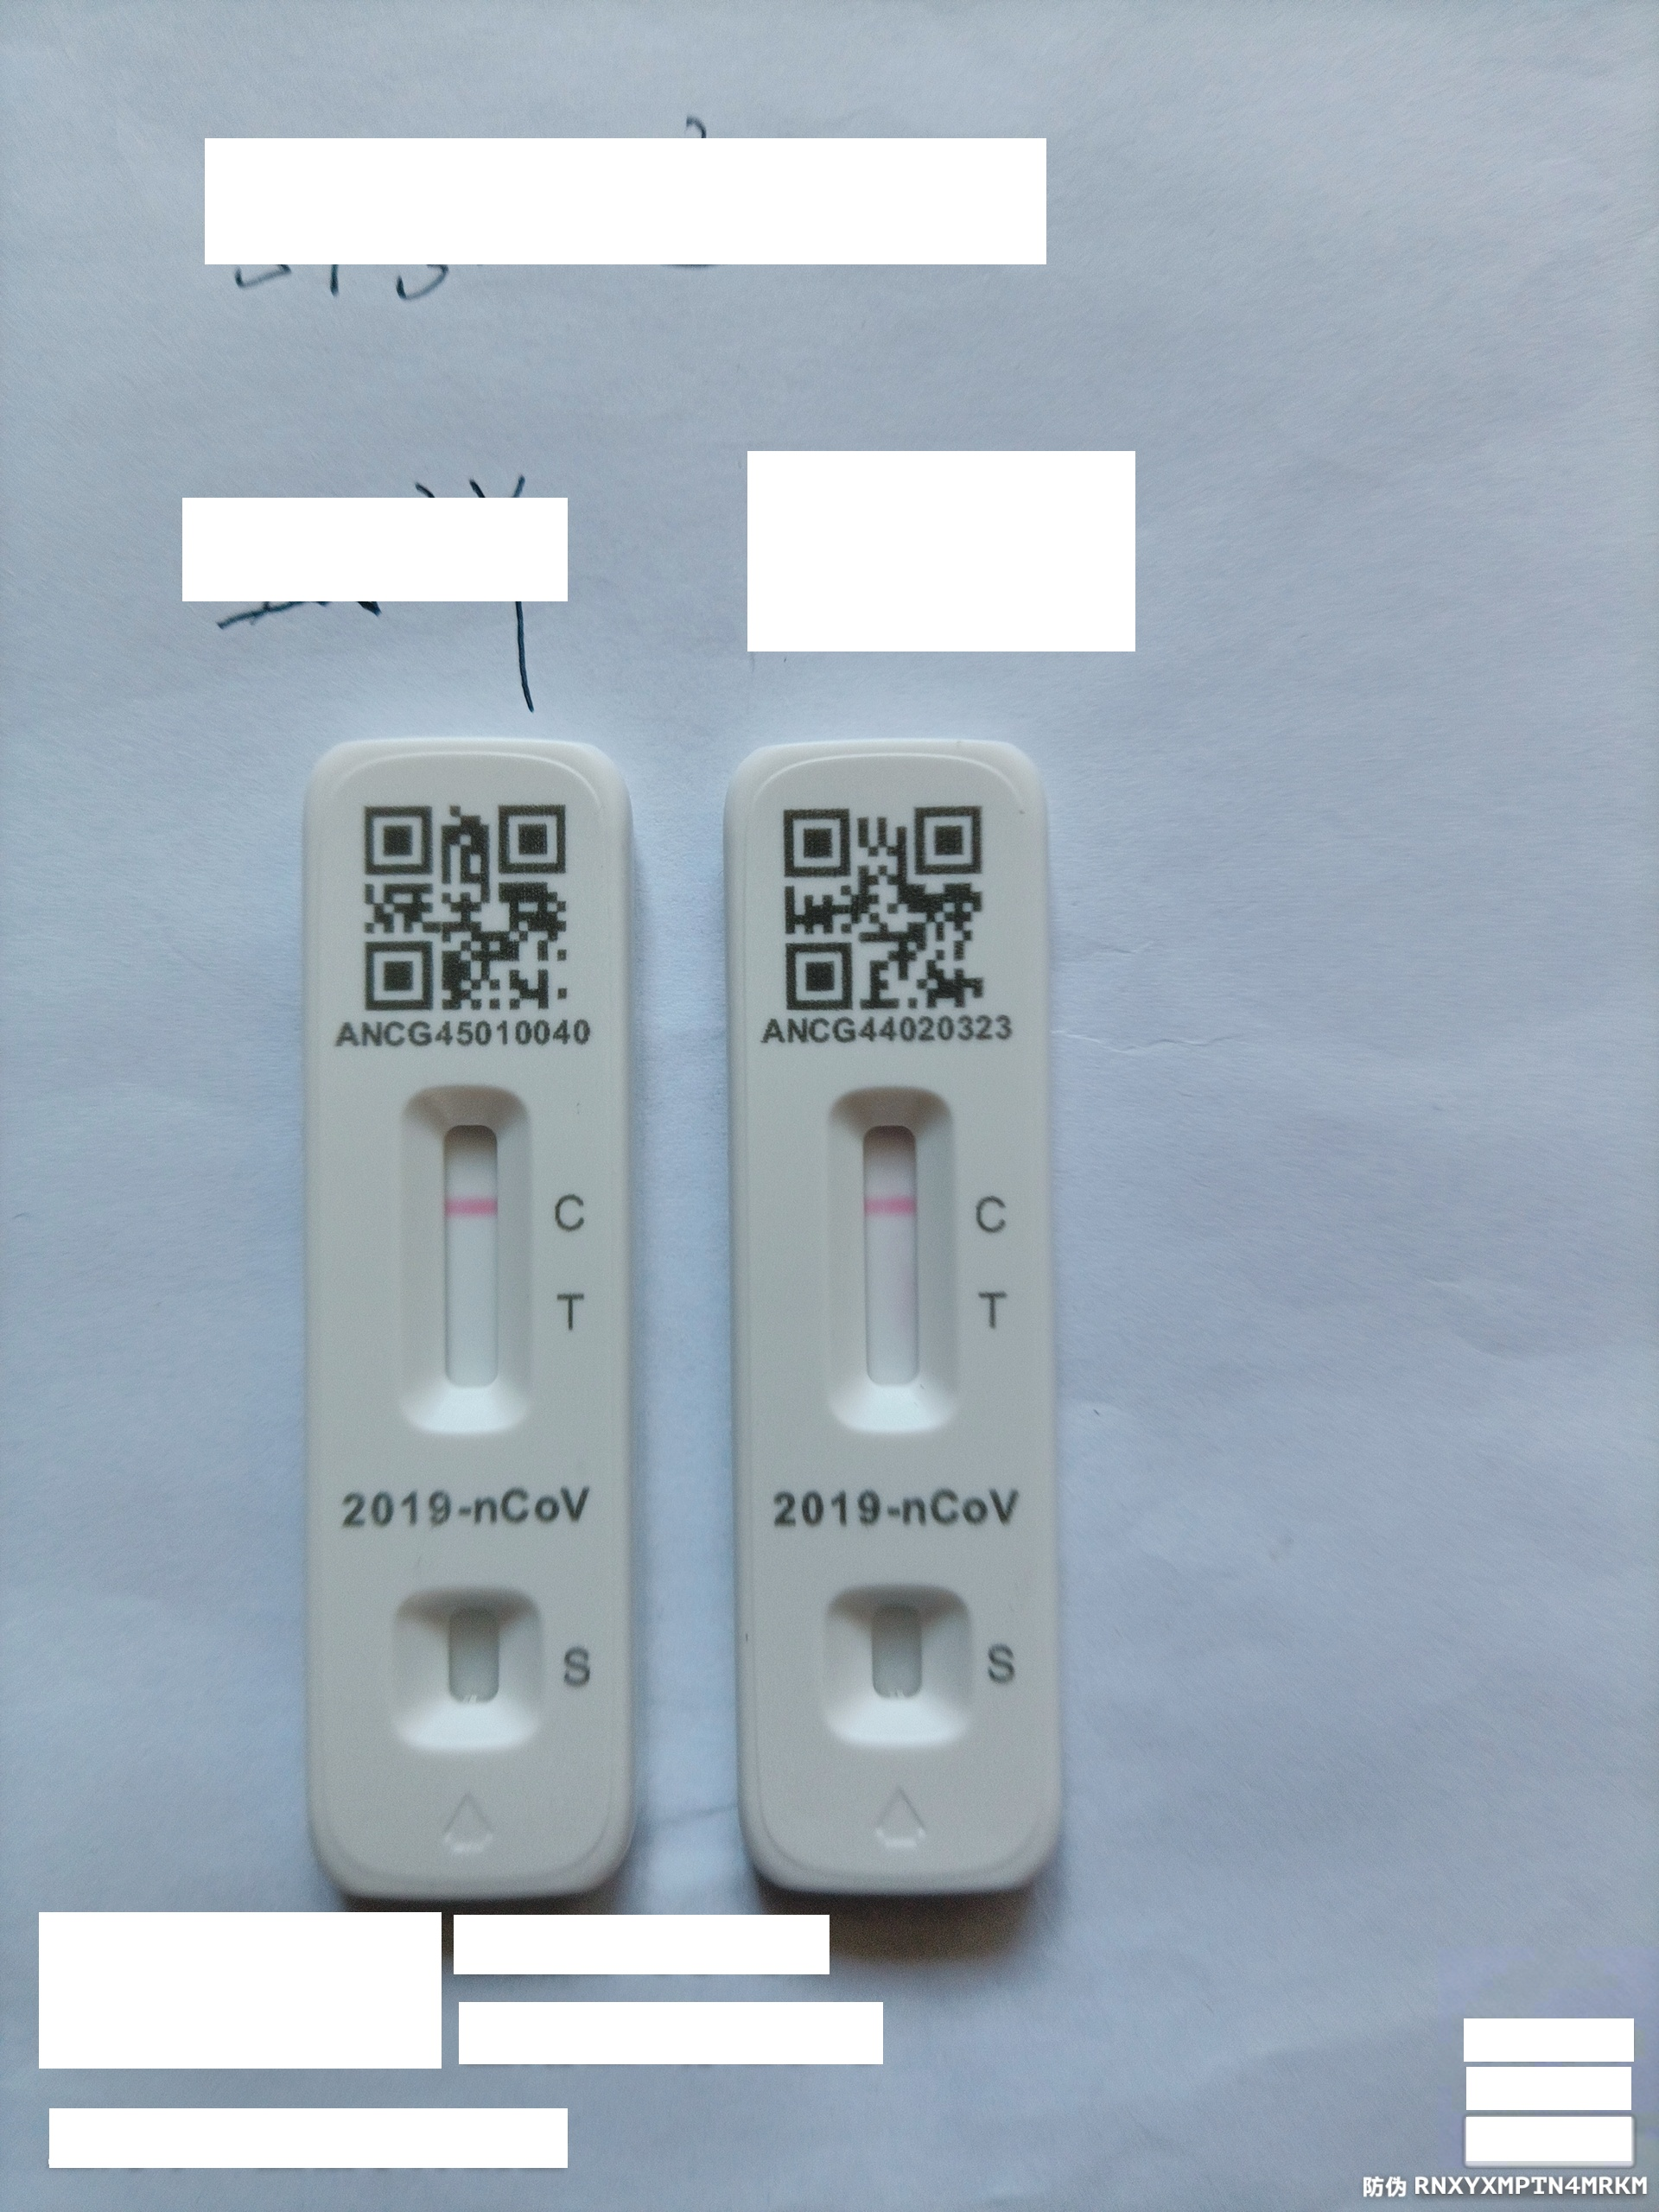negative: (397, 1082, 538, 1447), (828, 1087, 960, 1442)
